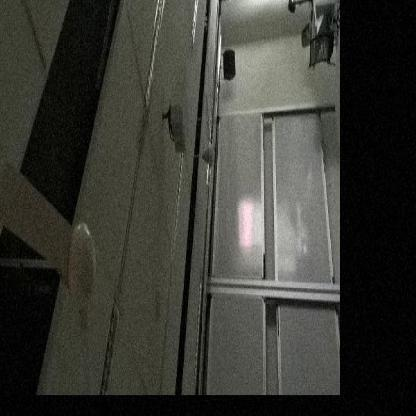light_off: (130, 0, 183, 110), (93, 291, 131, 395), (167, 156, 186, 264), (188, 0, 204, 50)
